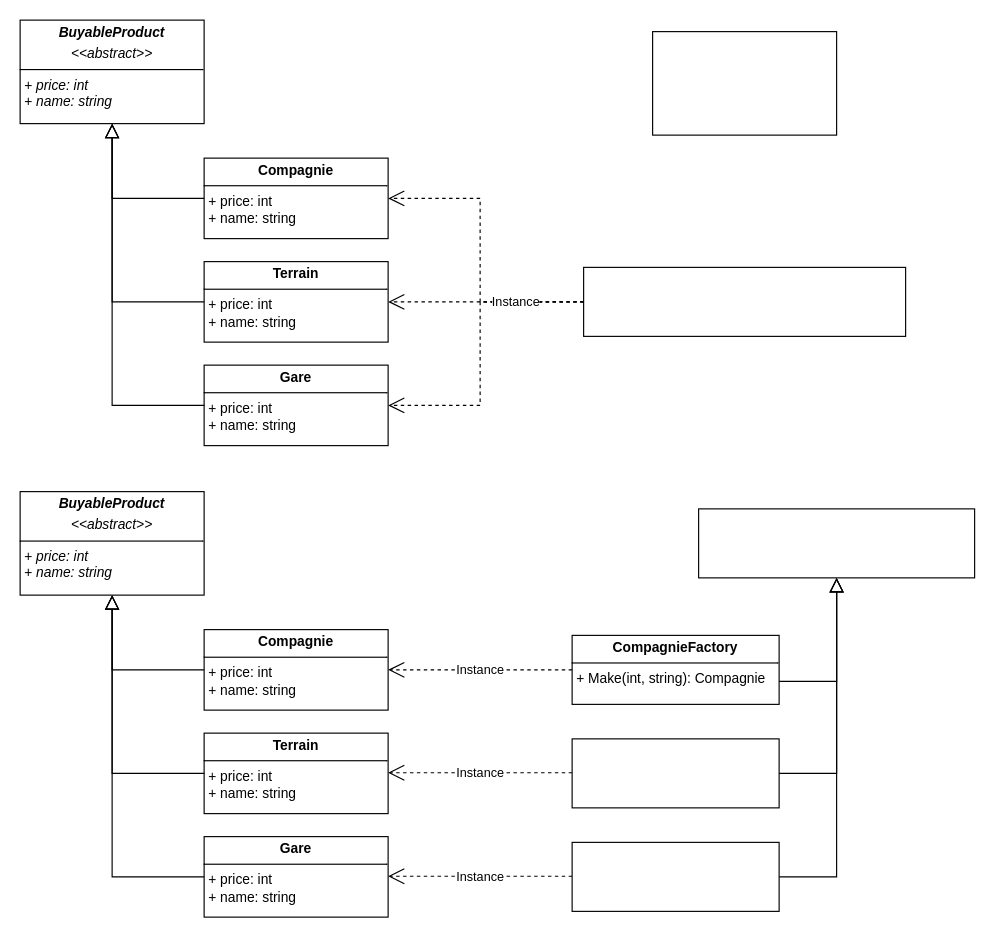
This 995x937 diagram has some shape labels left out. Each missing label, with the centre of its shape:
Banque - instance: Banque + Cash: int + GetInstance(): Banque: (744,82)
BuyableFactory + Make( BuyableProduct ): BuyableProduct: (744,301)
GareFactory + Make(int, string ): Gare: (675,876)
GenericFactory + Make( BuyableProduct ): GenericFactory: (836,543)
TerrainFactory + Make(int, string ): Terrain: (675,773)
